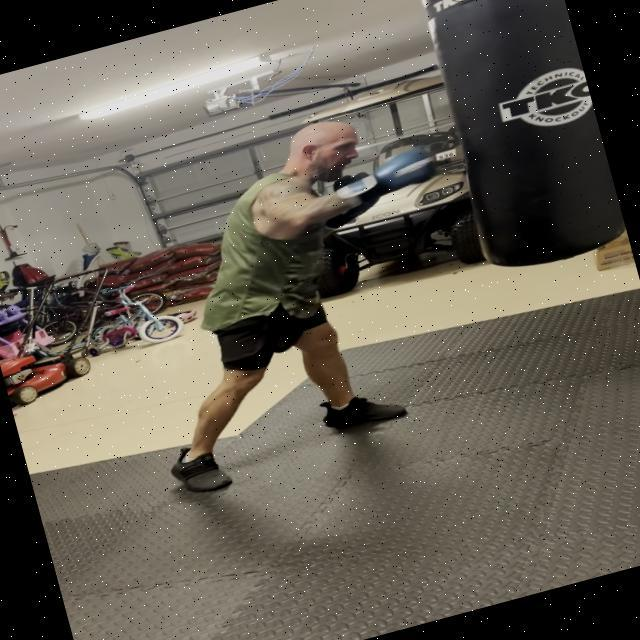bag: (400, 0, 632, 284)
cross: (213, 83, 471, 254)
